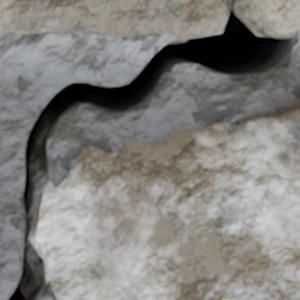brick: (33, 108, 299, 299)
broken_brick: (0, 0, 225, 38), (248, 0, 299, 31)
crack: (0, 0, 297, 299)
